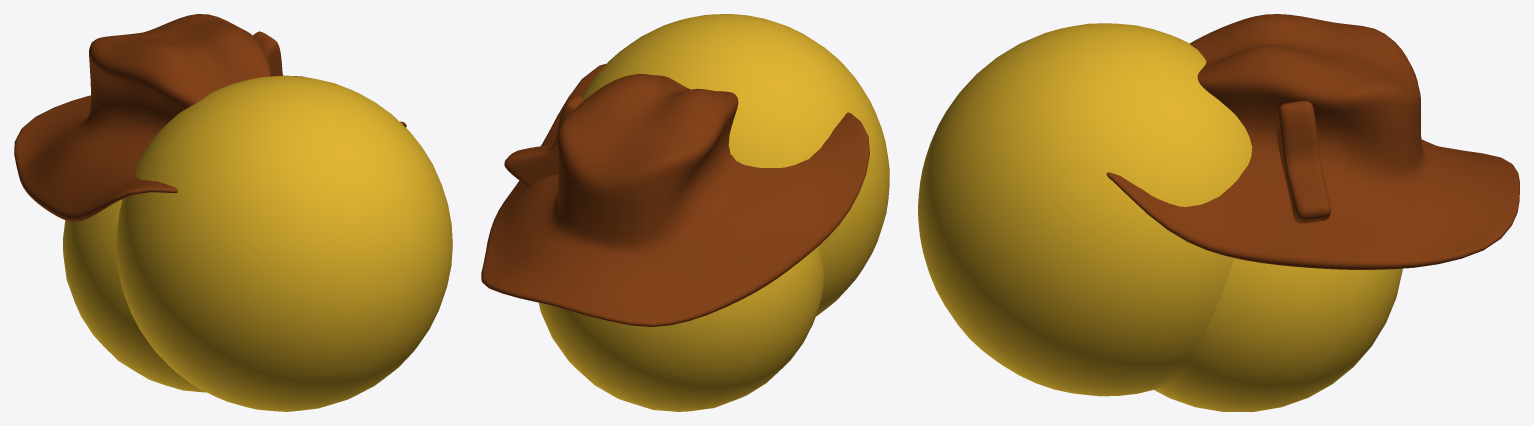
The model's file is cowboy FBX.glb.
The picture shows the model from 3 angles, left to right: view 1: azimuth 30°, elevation 25°; view 2: azimuth 150°, elevation 25°; view 3: azimuth 270°, elevation 25°; orthographic projection. The views are drawn at different scales.
Visible parts, largest first — view 1: Group44913, Group47280, Group58781, Group9498; view 2: Group47280, Group44913, Group58781, Group9498; view 3: Group44913, Group47280, Group58781, Group9498.
Boxes of the visible parts, x1,y1,x2,y2 form: Group44913: (116,75,452,411); Group47280: (14,14,406,221); Group58781: (63,199,206,392); Group9498: (253,31,304,76); Group47280: (481,63,869,326); Group44913: (582,14,889,316); Group58781: (538,246,824,411); Group9498: (504,95,585,186); Group44913: (918,23,1252,396); Group47280: (1106,14,1519,269); Group58781: (1154,258,1402,411); Group9498: (1276,101,1330,223).
Bounding box in the file's own units: 0.5935 × 0.5967 × 0.8926.
